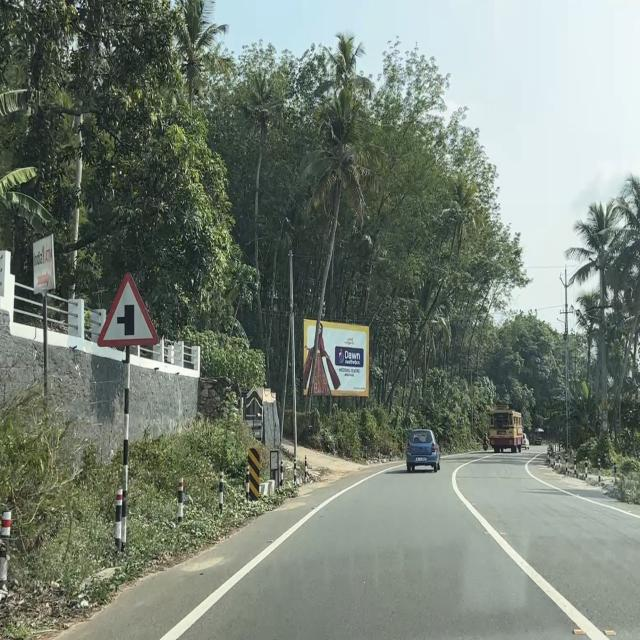SIDE_ROAD_LEFT: (96, 269, 160, 349)
